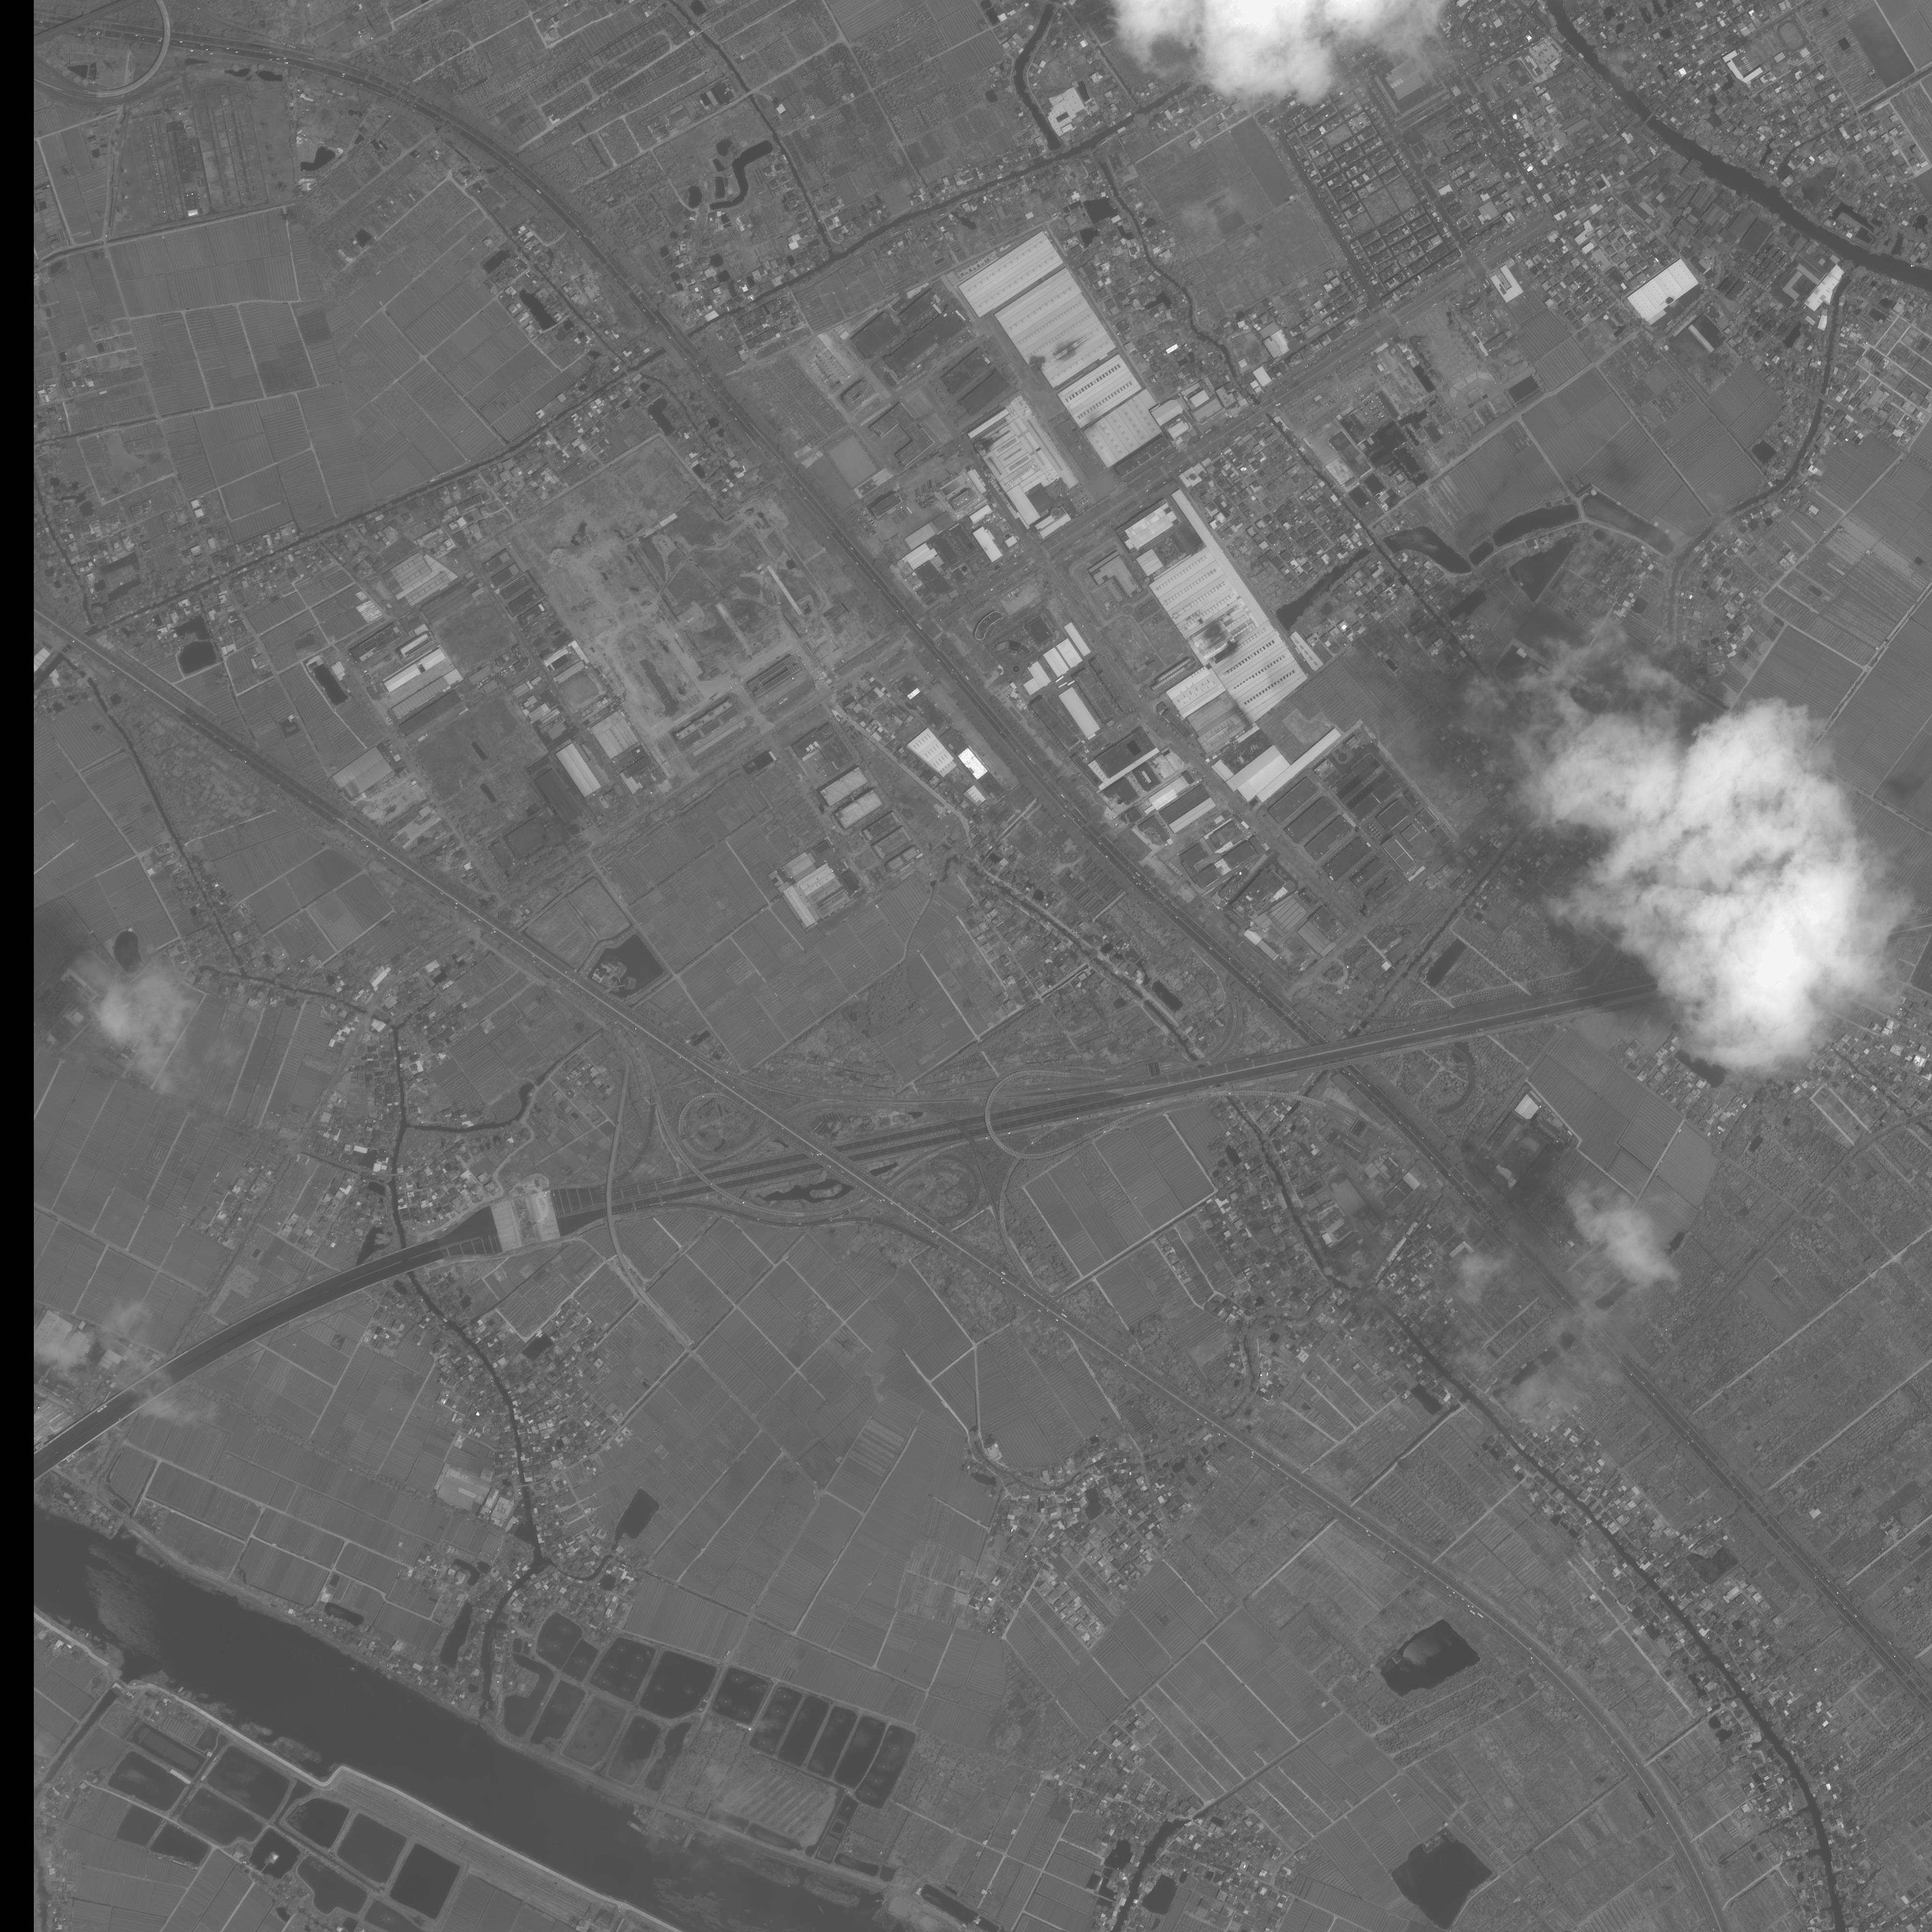ship: (679, 1829, 697, 1856), (626, 1821, 649, 1838)
